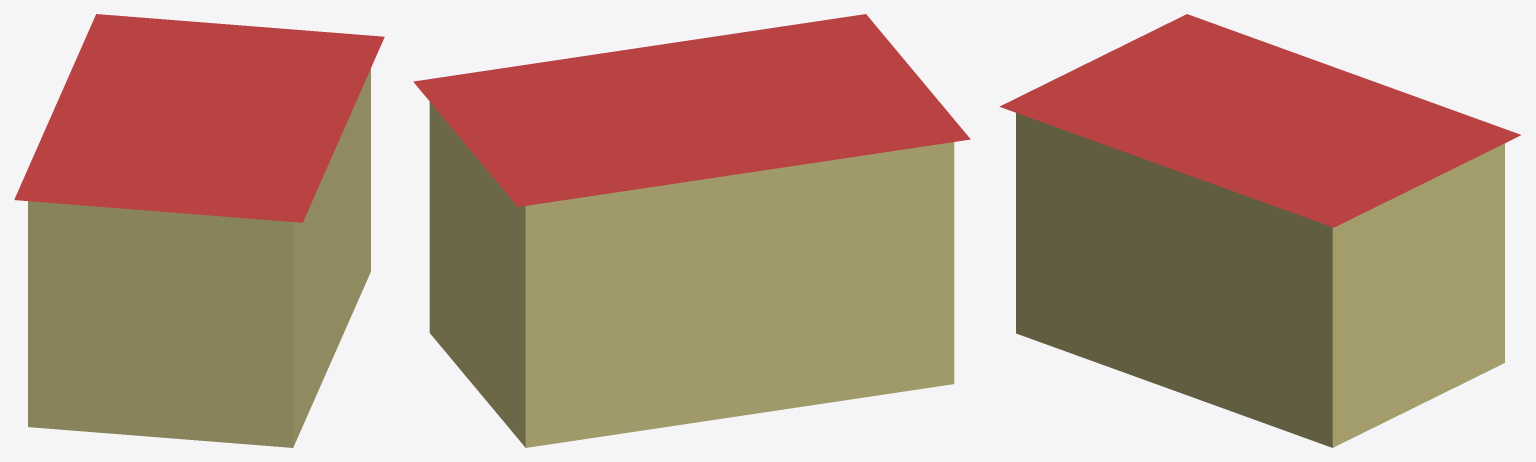
3 views of the same model, side by side, from view 1: azimuth 30°, elevation 25°; view 2: azimuth 150°, elevation 25°; view 3: azimuth 270°, elevation 25° (orthographic). The views are drawn at different scales.
Size of the model in its own units: 10.71 by 11.06 by 5.31.
